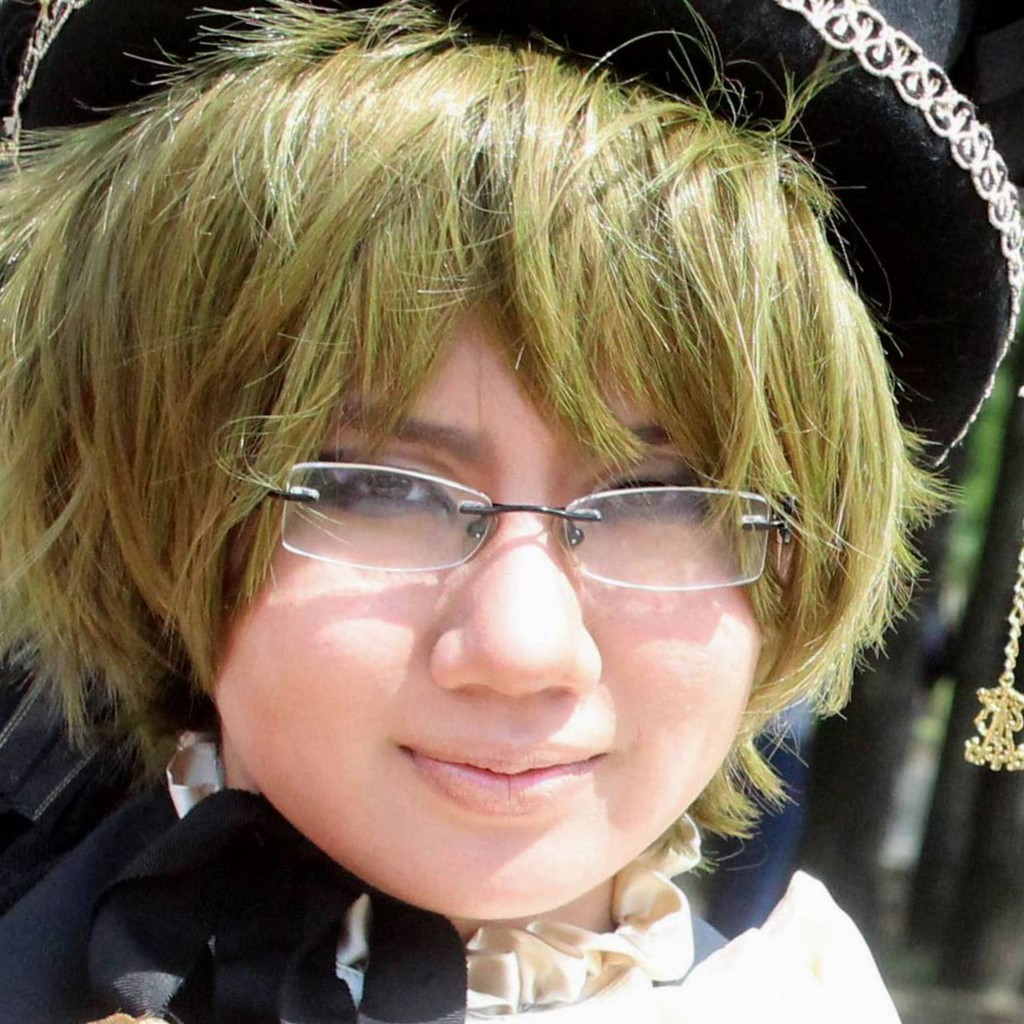sin_mascara: (164, 84, 787, 927)
